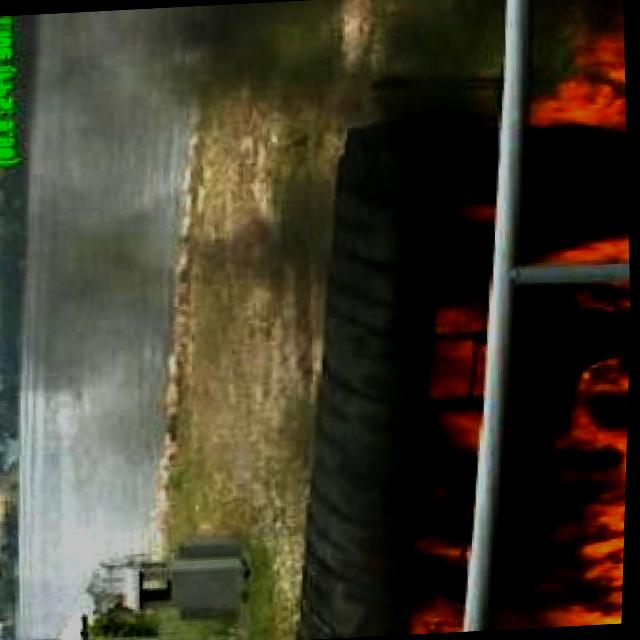helmet: (534, 347, 632, 624), (534, 7, 631, 144), (422, 268, 492, 452), (412, 469, 475, 634), (526, 230, 635, 318)
